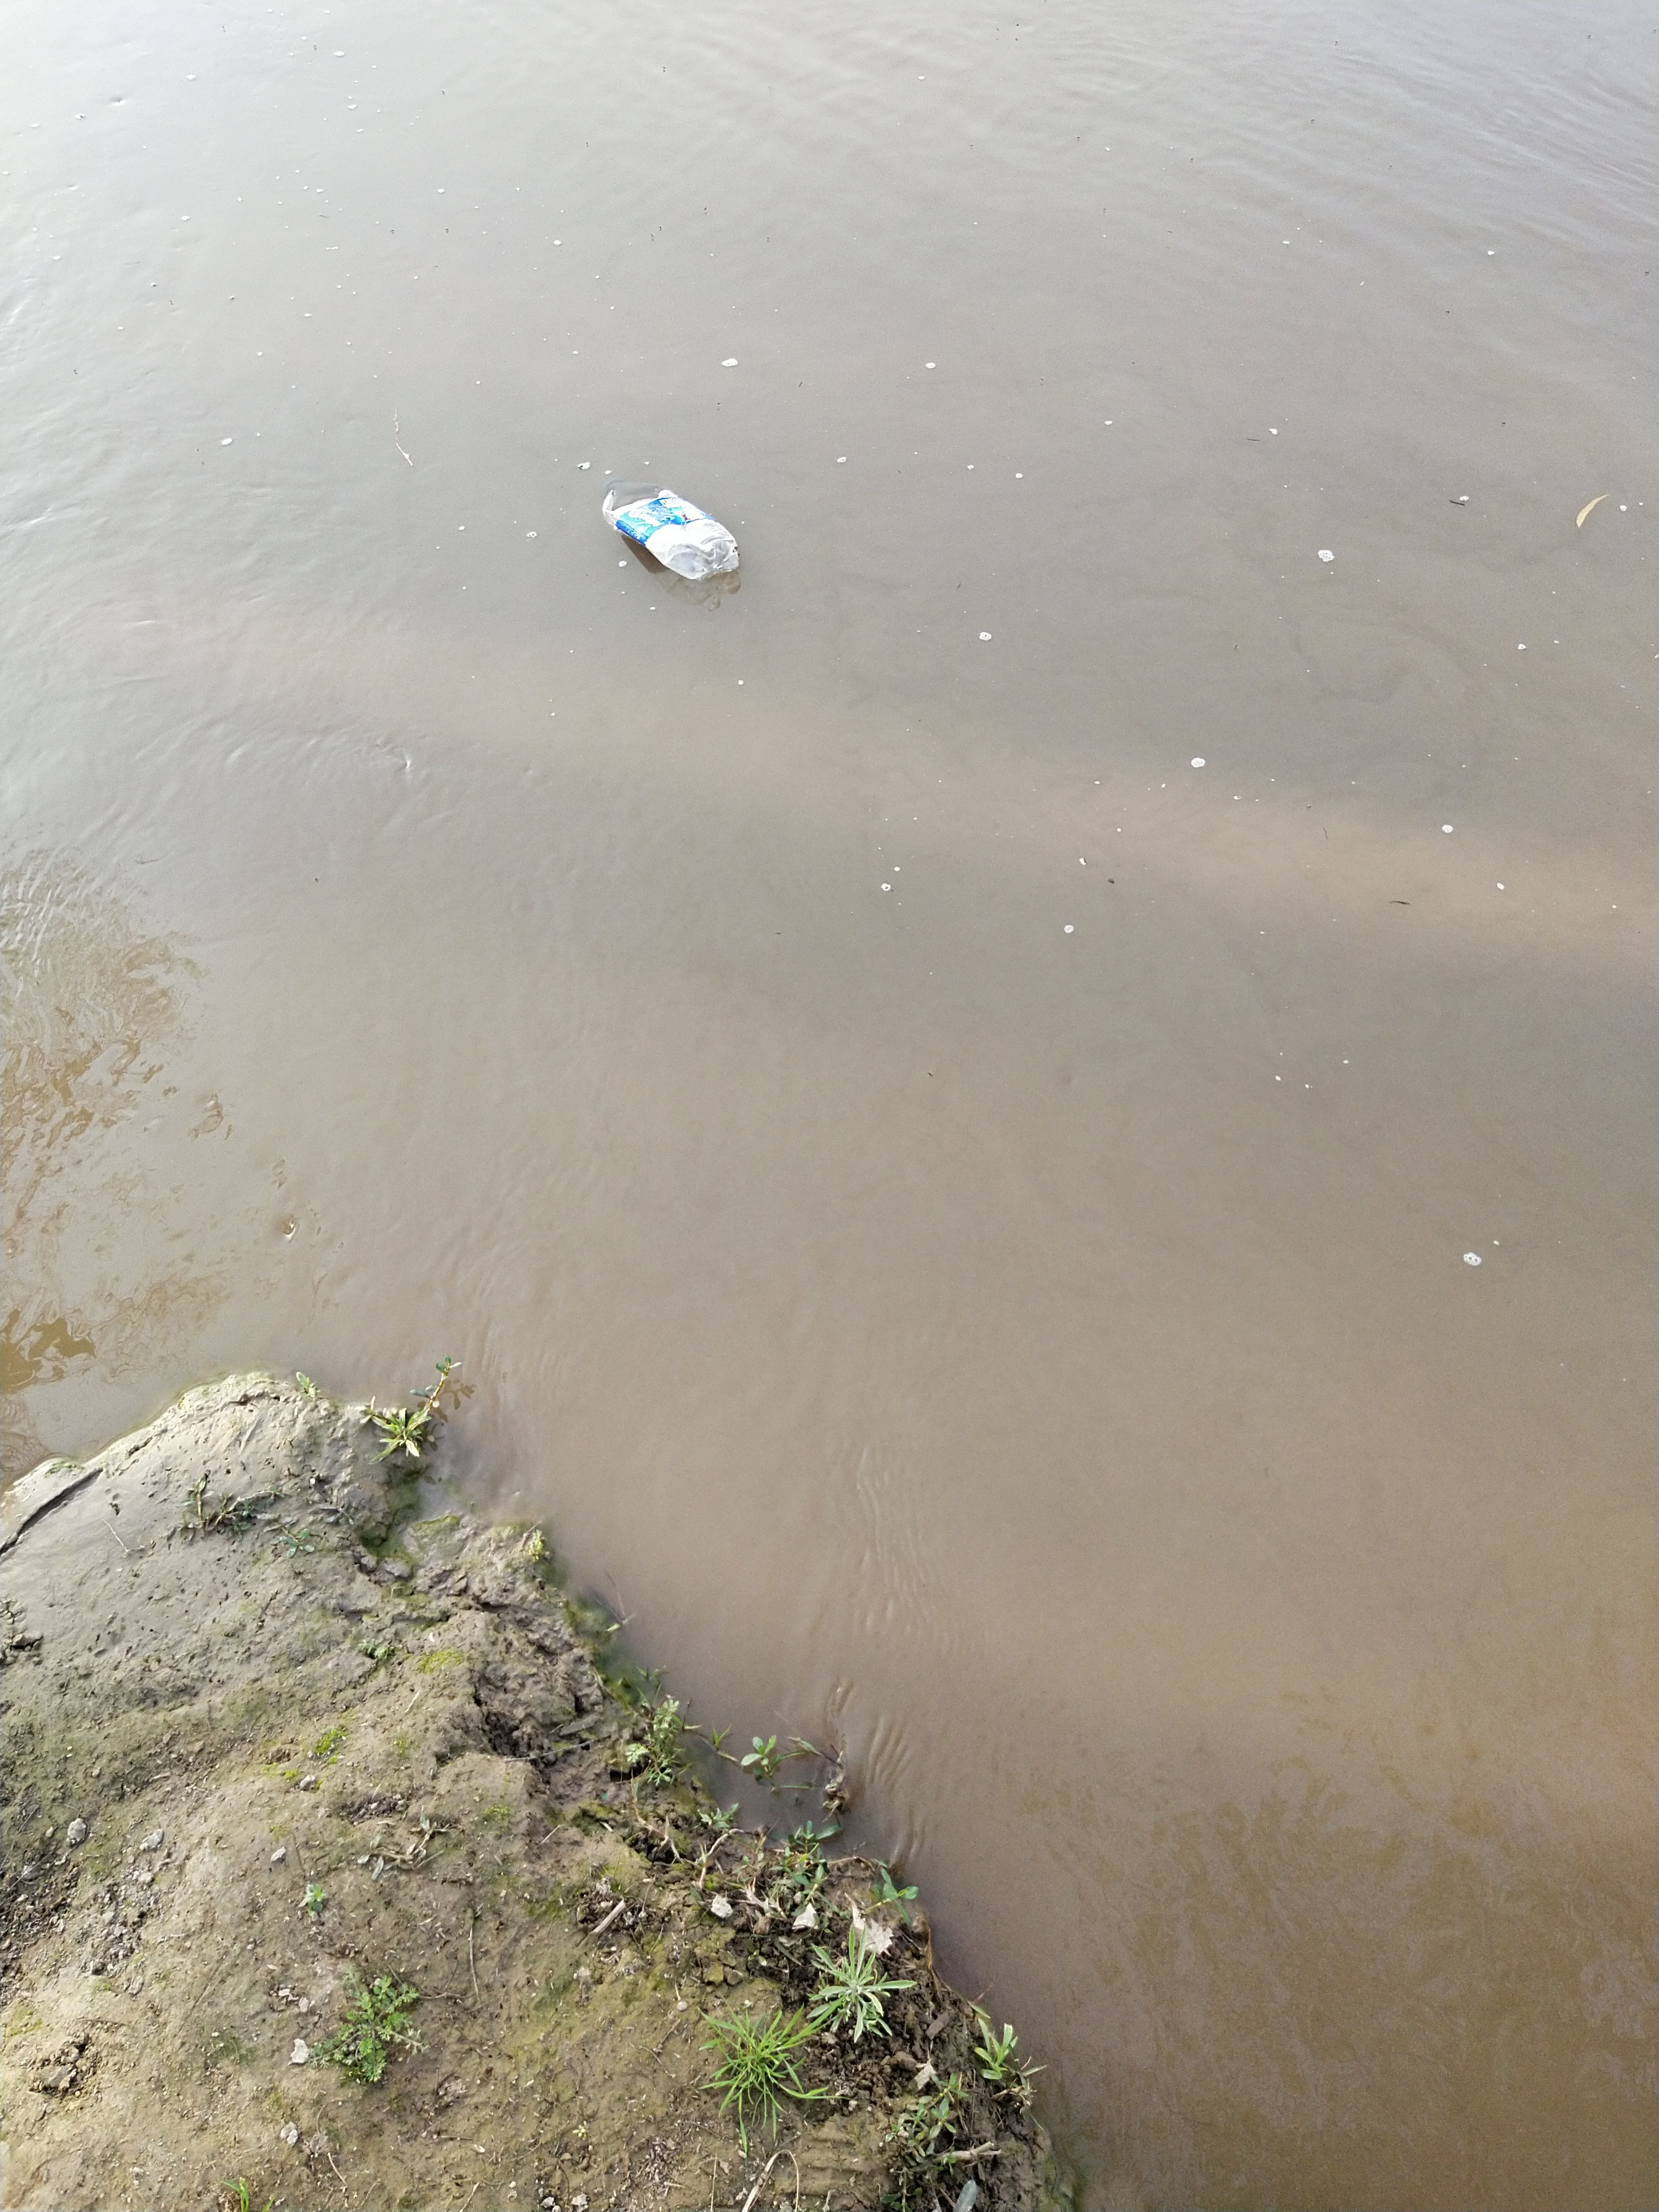Plastic Bottle: (601, 477, 737, 582)
